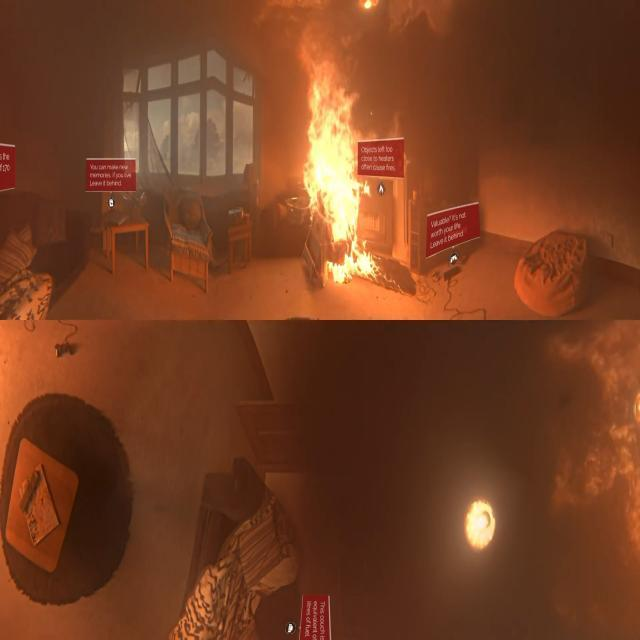Fire: (283, 48, 406, 272)
